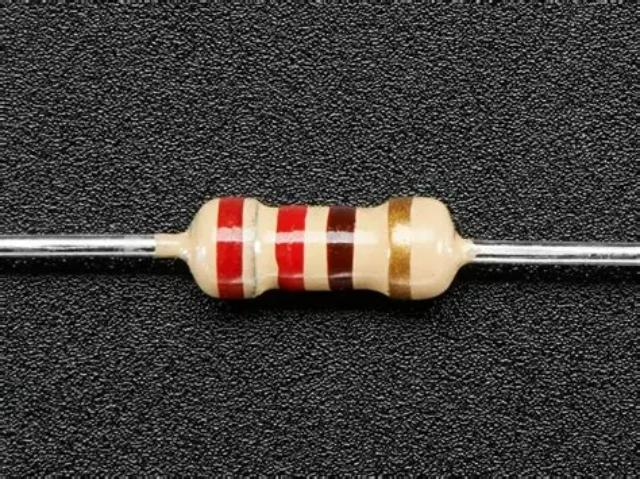brown: (323, 185, 359, 304)
gold: (376, 184, 426, 308)
red: (203, 184, 254, 306), (269, 185, 313, 303)
resistor: (147, 163, 499, 332)
